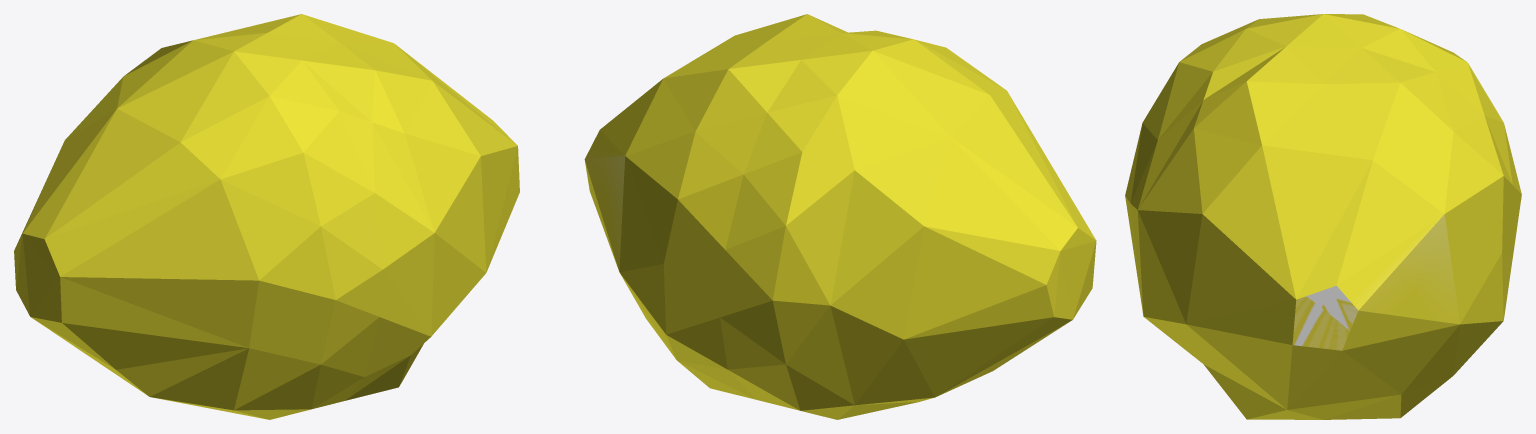
The model's file is lemon.fbx.
3 views of the same model, side by side, from view 1: azimuth 30°, elevation 25°; view 2: azimuth 150°, elevation 25°; view 3: azimuth 270°, elevation 25° (orthographic).
Parts seen in each view (by area): view 1: lemon6, lemon5, lemon4, lemon3, lemon2, lemon1; view 2: lemon5, lemon6, lemon3, lemon4, lemon2, lemon1; view 3: lemon1, lemon2, lemon3, lemon4, lemon5.
Part boxes in pixels (x1,y1,x2,y2): lemon6: (14, 109, 259, 410); lemon5: (65, 40, 335, 419); lemon4: (194, 32, 382, 409); lemon3: (228, 14, 434, 400); lemon2: (302, 14, 486, 385); lemon1: (395, 44, 519, 272); lemon5: (772, 39, 1006, 419); lemon6: (903, 91, 1096, 397); lemon3: (663, 14, 847, 399); lemon4: (720, 30, 912, 410); lemon2: (619, 14, 806, 359); lemon1: (584, 79, 662, 271); lemon1: (1186, 145, 1459, 409); lemon2: (1137, 81, 1503, 419); lemon3: (1130, 46, 1512, 319); lemon4: (1125, 14, 1521, 255); lemon5: (1180, 14, 1466, 61).
Bounding box in the file's own units: 161 × 110 × 110.
